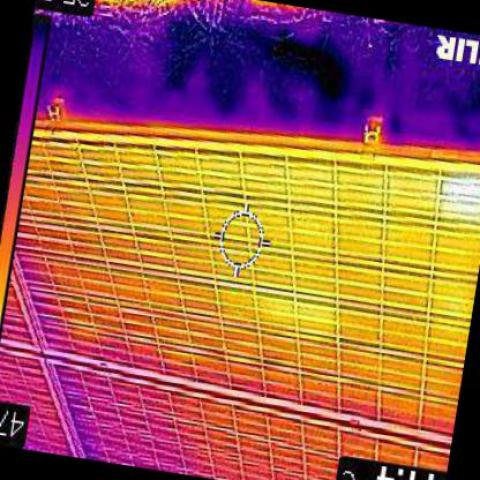fault: (443, 170, 478, 223)
